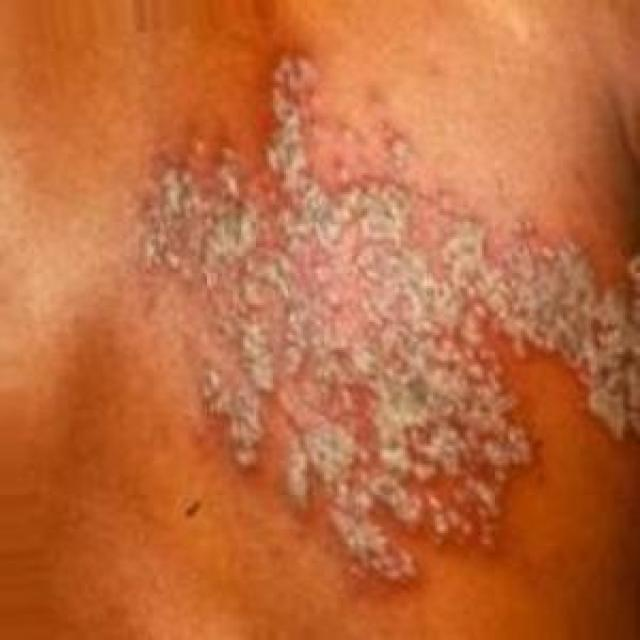Shingles: (143, 48, 640, 593)
